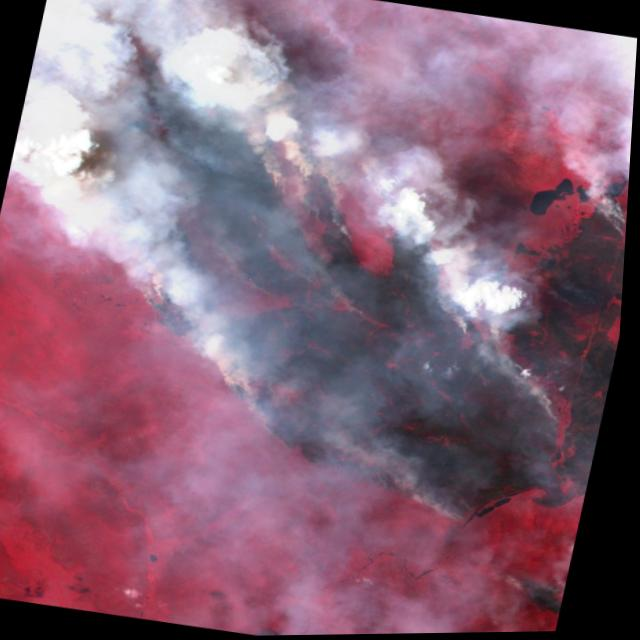fire: (10, 10, 639, 550), (494, 568, 574, 634)
